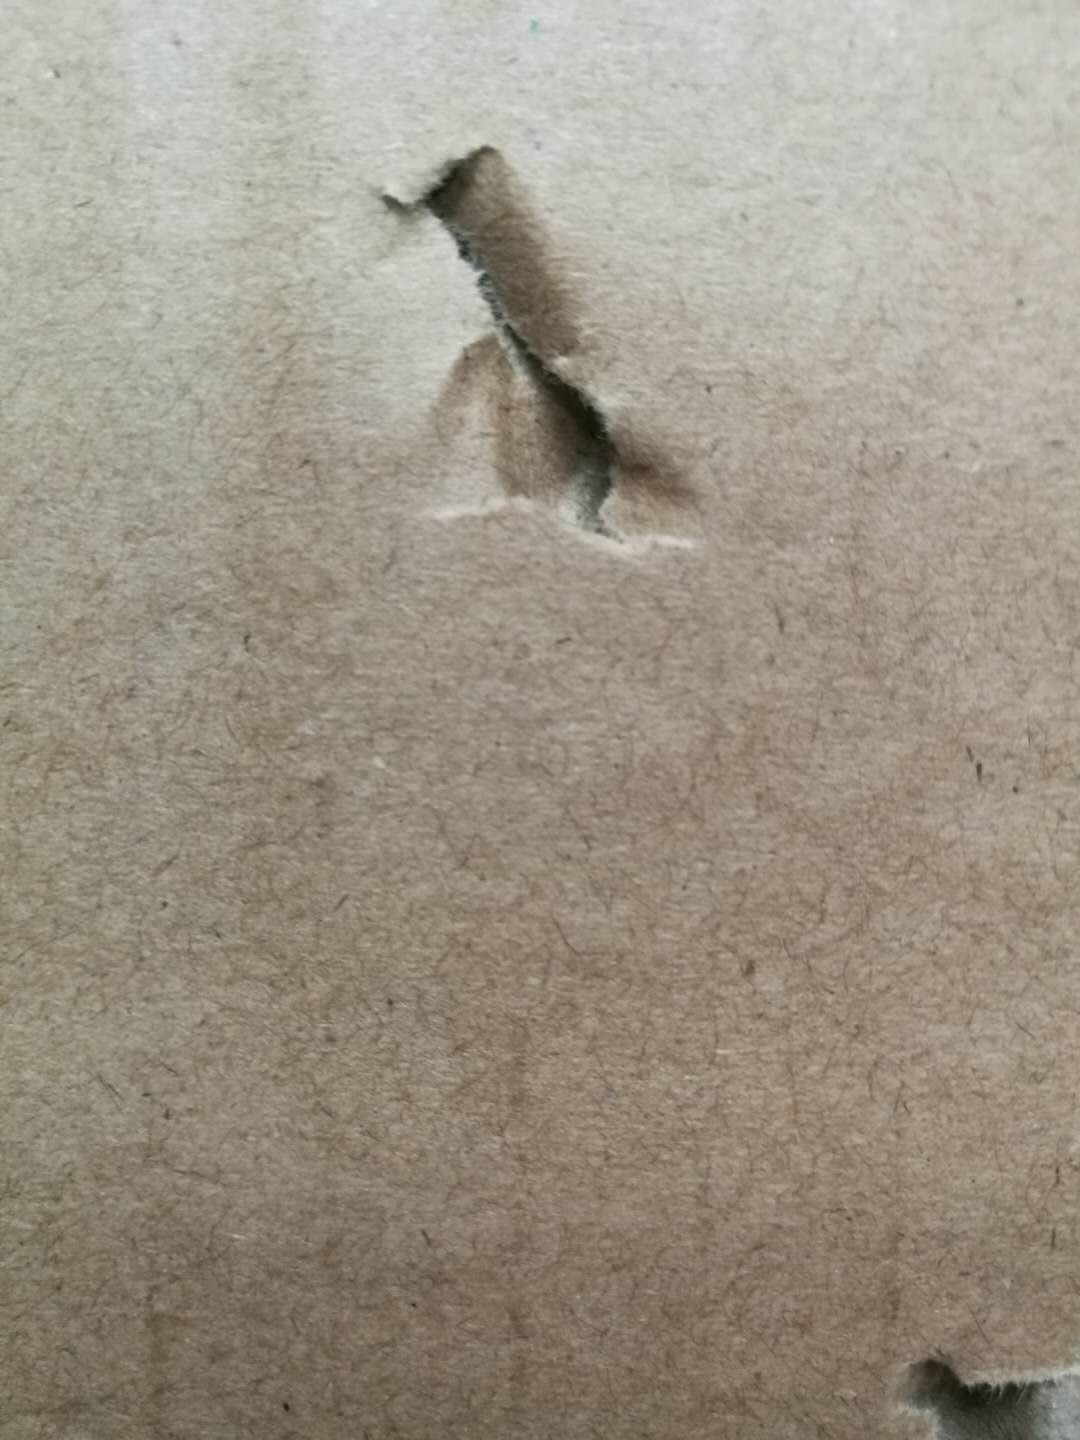defect: (348, 127, 735, 575), (854, 1321, 1080, 1440)
